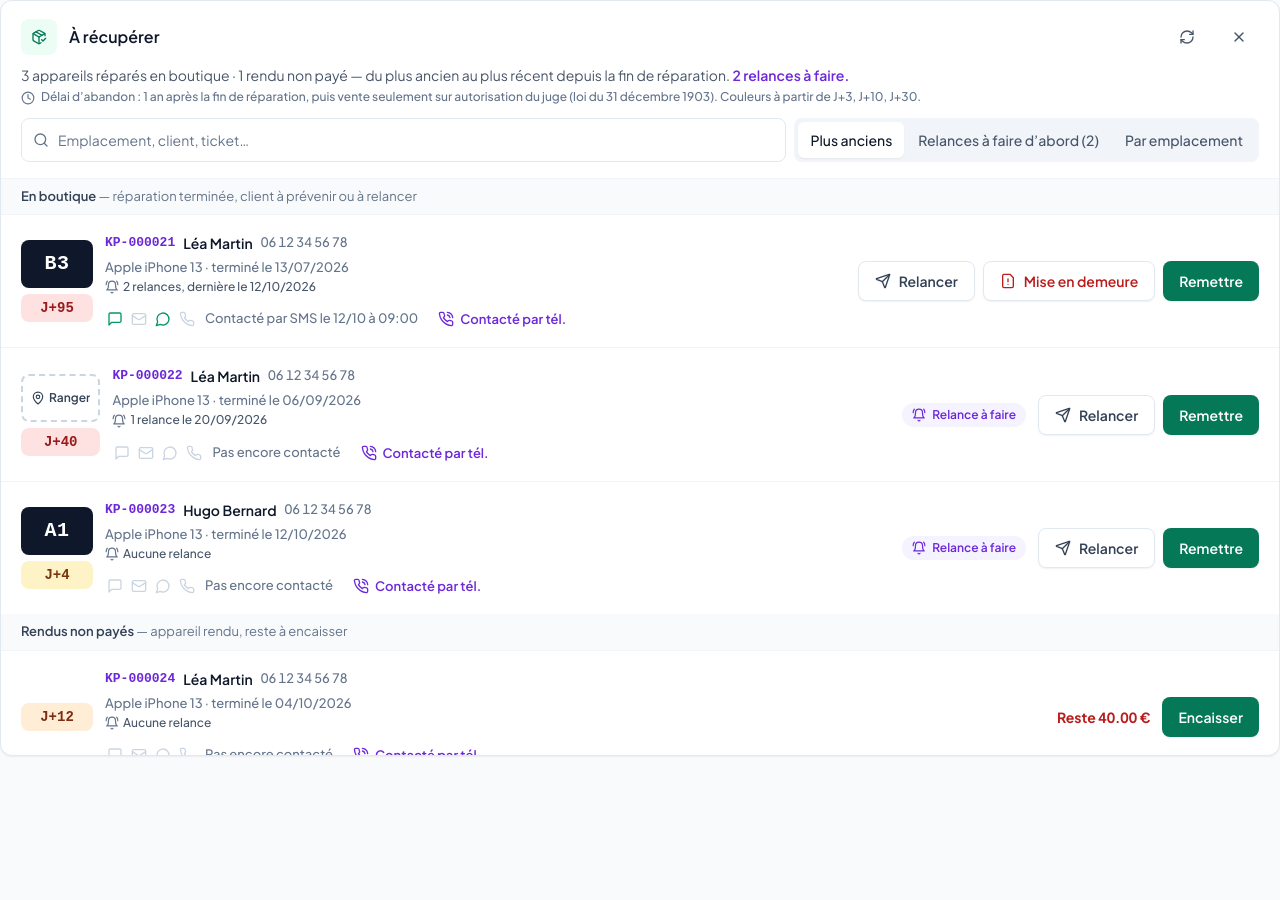
it: EtagereARecuperer : lignes › ordre « Relances à faire d’abord » mémorisé, groupement et recherche par emplacement
Expected: the link "KP-000021" is shown, x1=105 y1=235 x2=175 y2=250
Step 1. Click the button "Relances à faire d’abord (2)" → [1009, 140], box x1=906 y1=122 x2=1111 y2=158
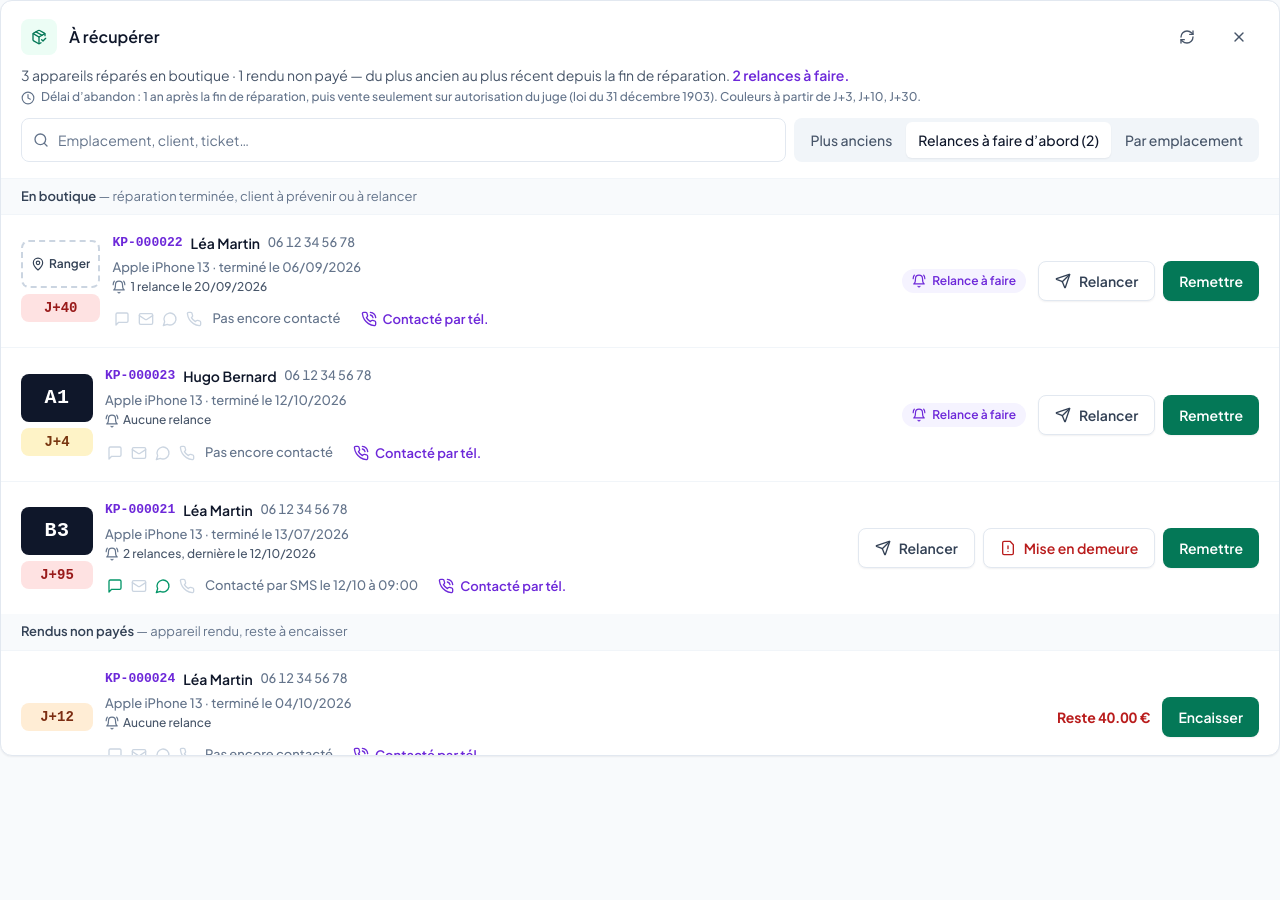
Step 2. Click the button "Par emplacement" → [1184, 140], box x1=1113 y1=122 x2=1255 y2=158
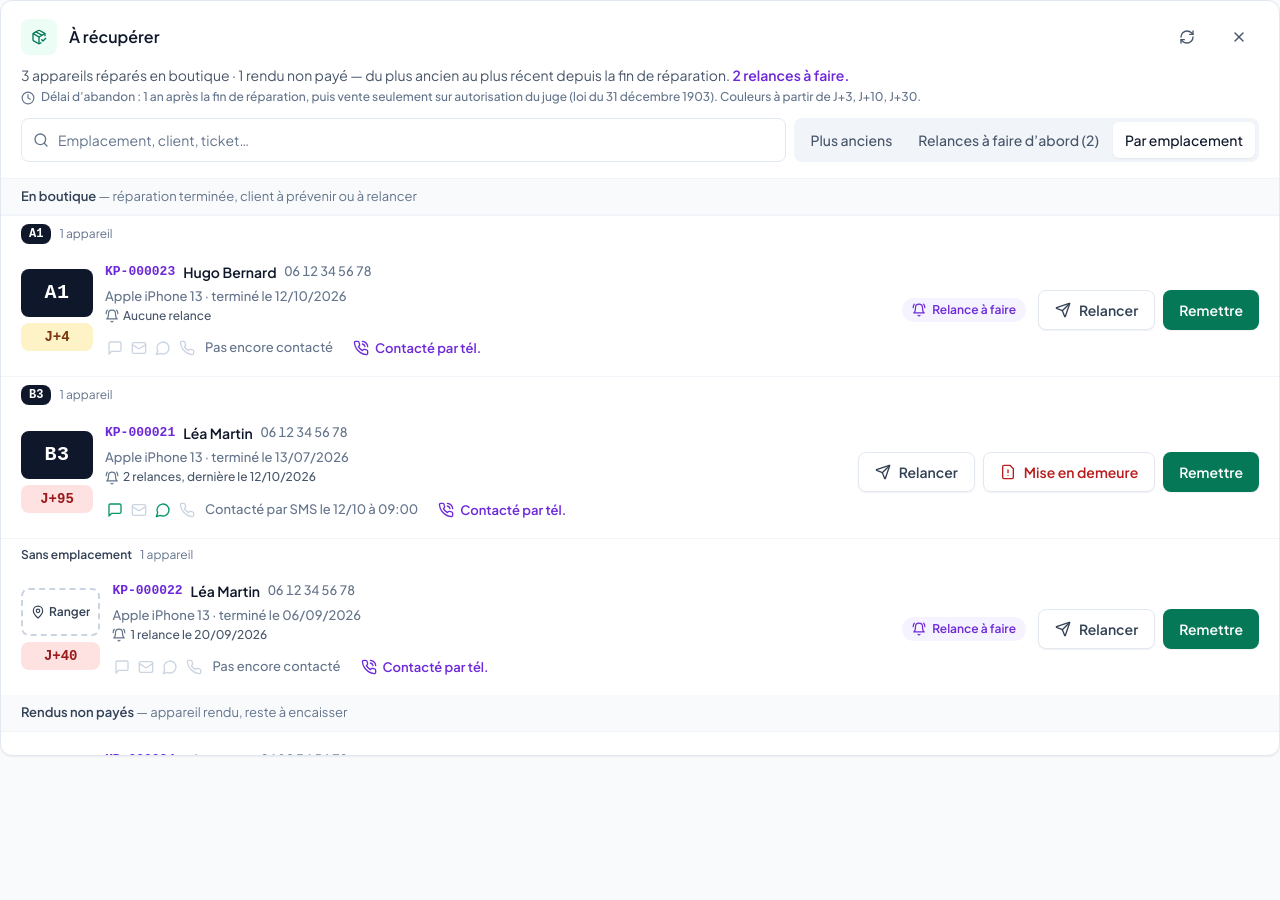
Expected: the link "KP-000023" is shown, x1=105 y1=264 x2=175 y2=279
Step 3. Type "b3" into the search field named "Chercher dans l’étagère" → [404, 140], box x1=21 y1=118 x2=786 y2=162
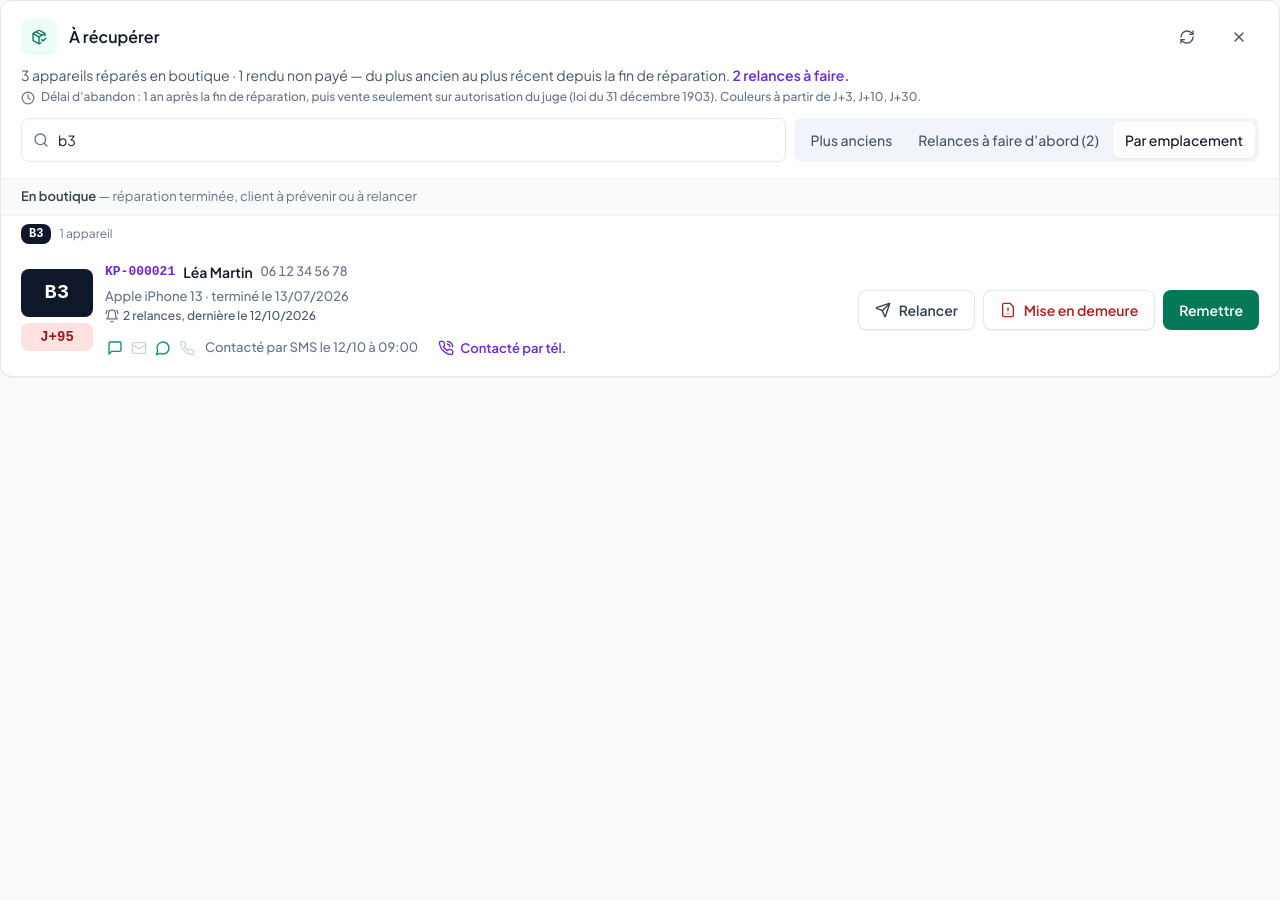
Expected: the heading "Rendus non payés" is gone
Step 4. Replace the text in the search field with "zzz" → [404, 140], box x1=21 y1=118 x2=786 y2=162
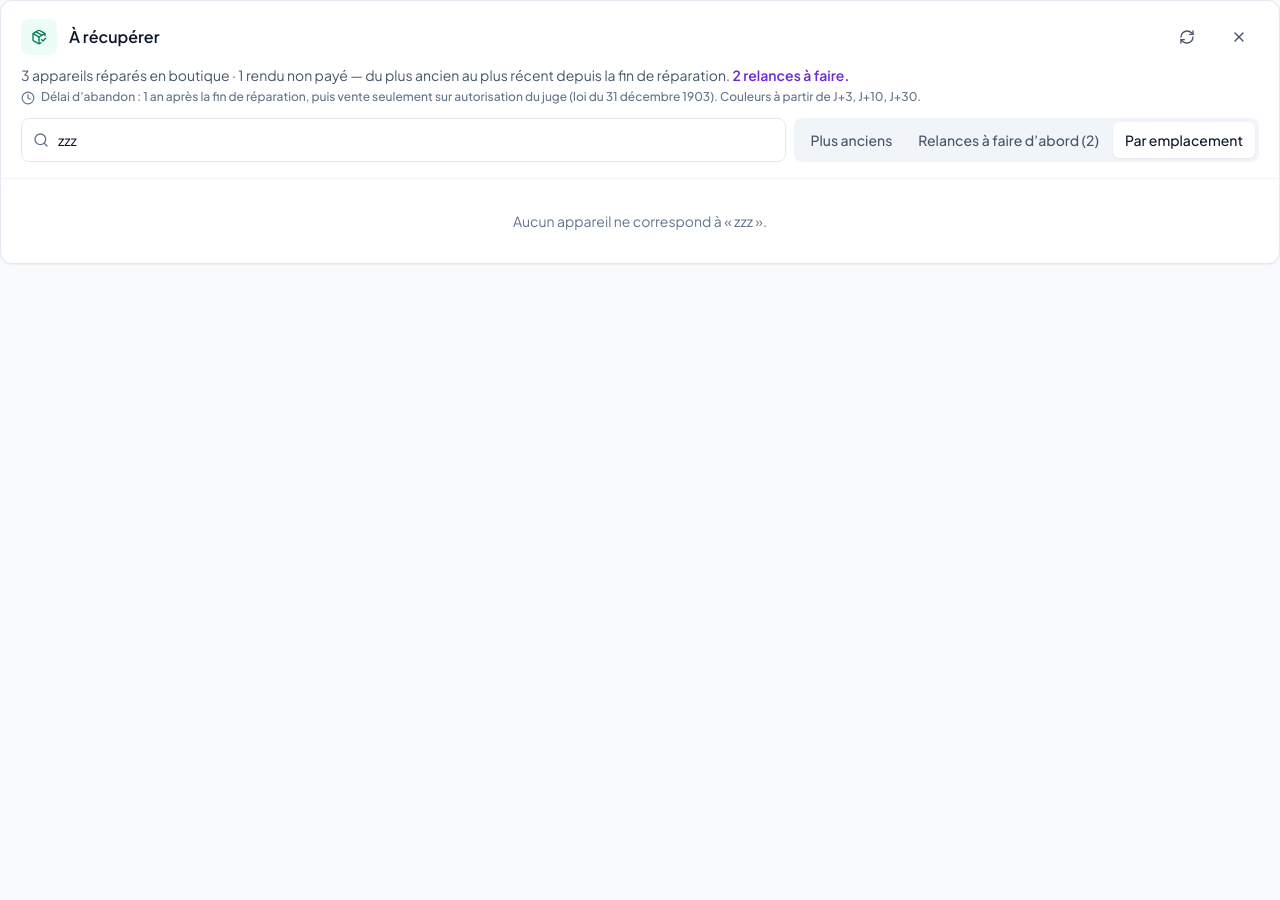
Expected: the text "Aucun appareil ne correspond à « zzz »." is shown, x1=513 y1=212 x2=767 y2=230
